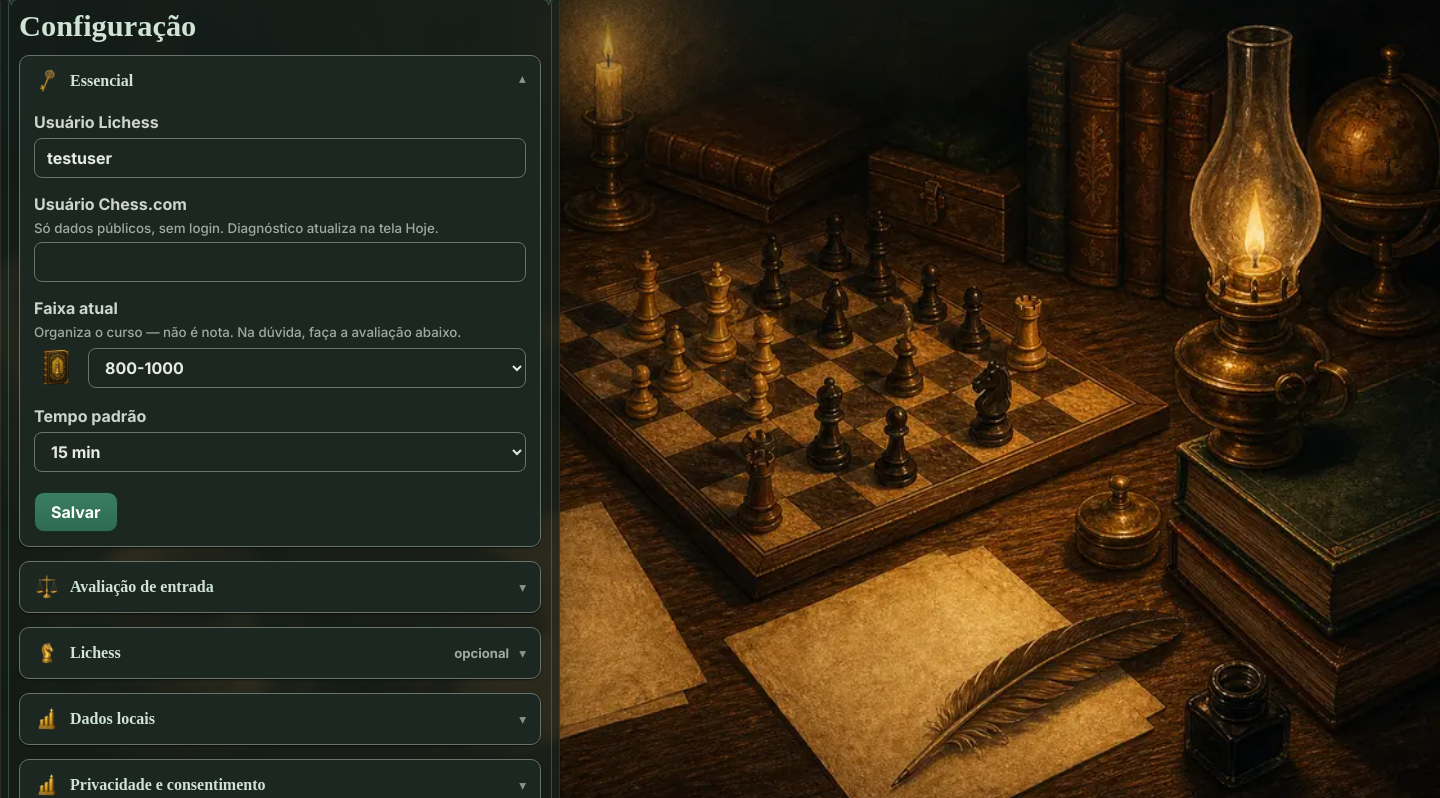
Test: Config — "Apagar tudo" inline confirmation › dismisses the confirm group when Cancelar is clicked
Click the heading "Dados locais" at (94, 719), box x1=34 y1=706 x2=155 y2=732
(page scrolled)
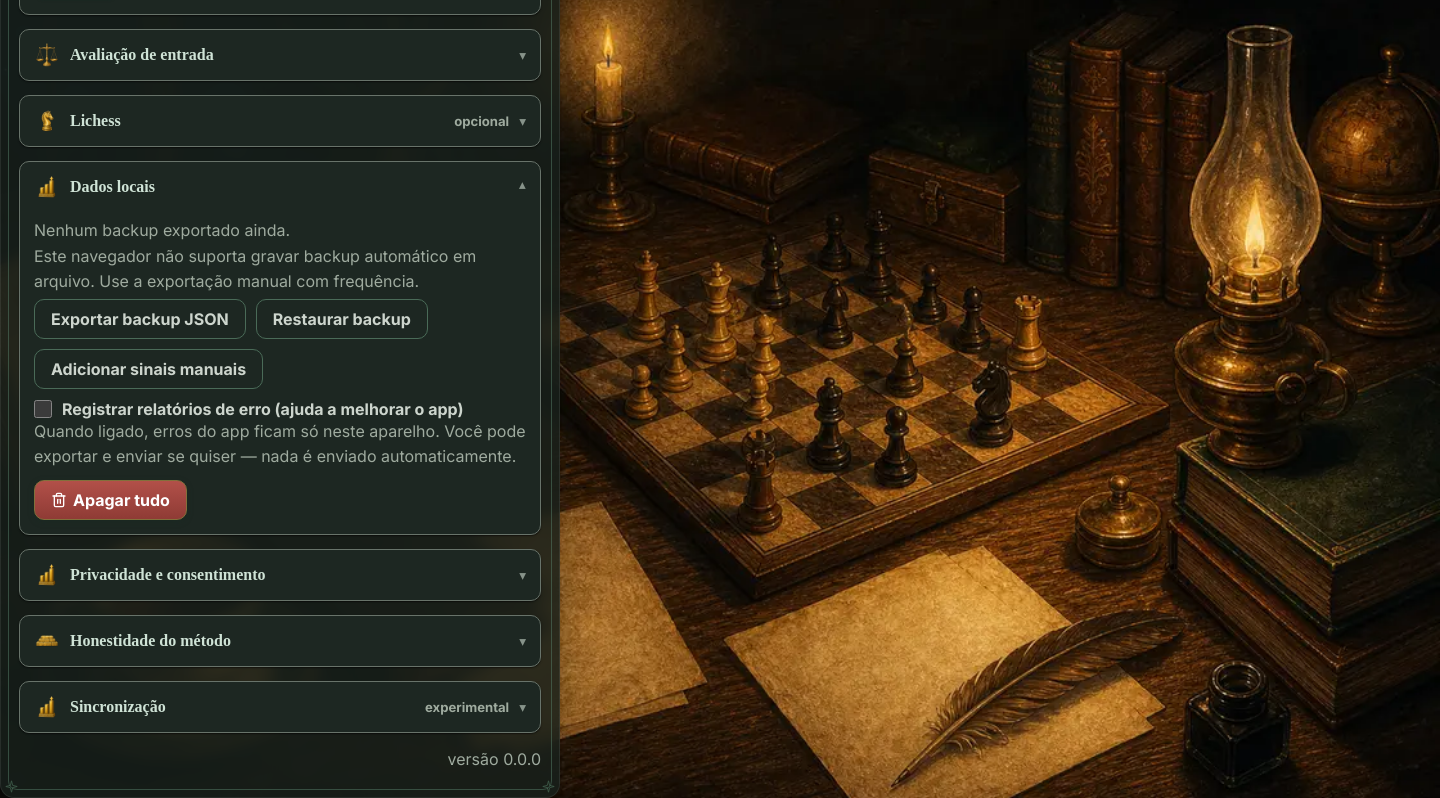
Click the button "Apagar tudo" at (110, 500), box x1=34 y1=480 x2=187 y2=520
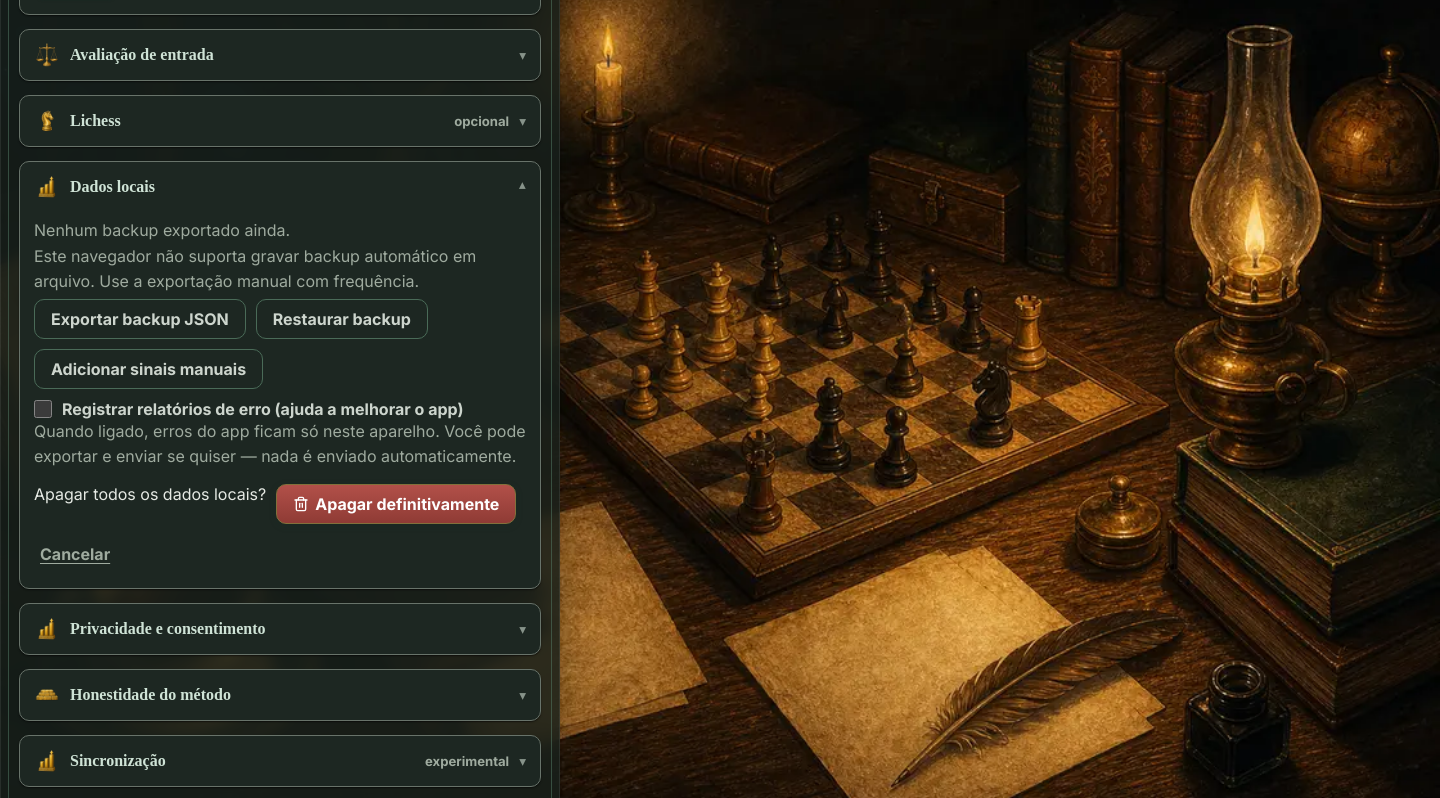
Expected: the text "Apagar todos os dados locais?" is shown, x1=34 y1=484 x2=266 y2=504
Click the button with class "link-button" at (75, 554), box x1=34 y1=534 x2=116 y2=574
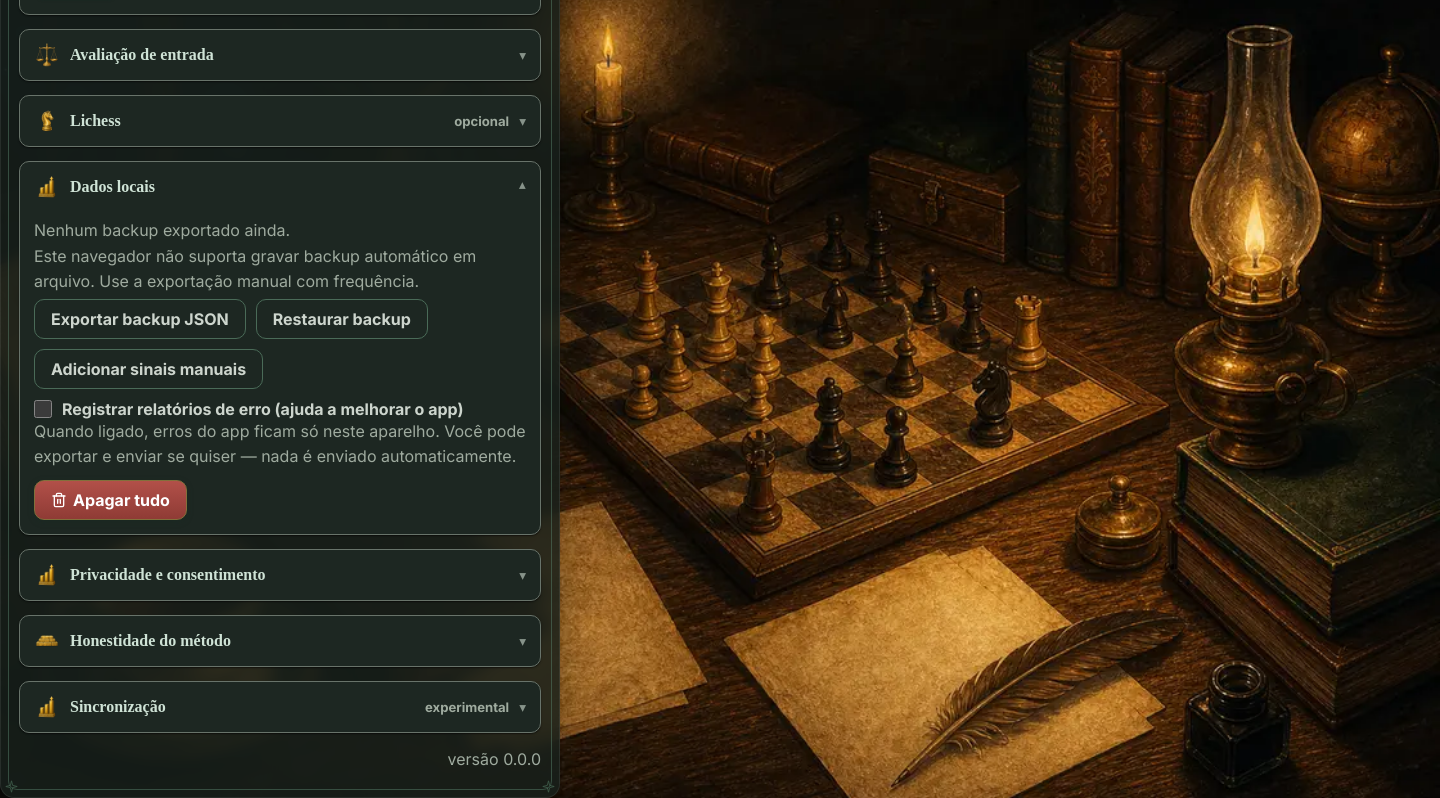
Expected: the text "Apagar todos os dados locais?" is gone
Expected: the button "Apagar tudo" is shown, x1=34 y1=480 x2=187 y2=520
